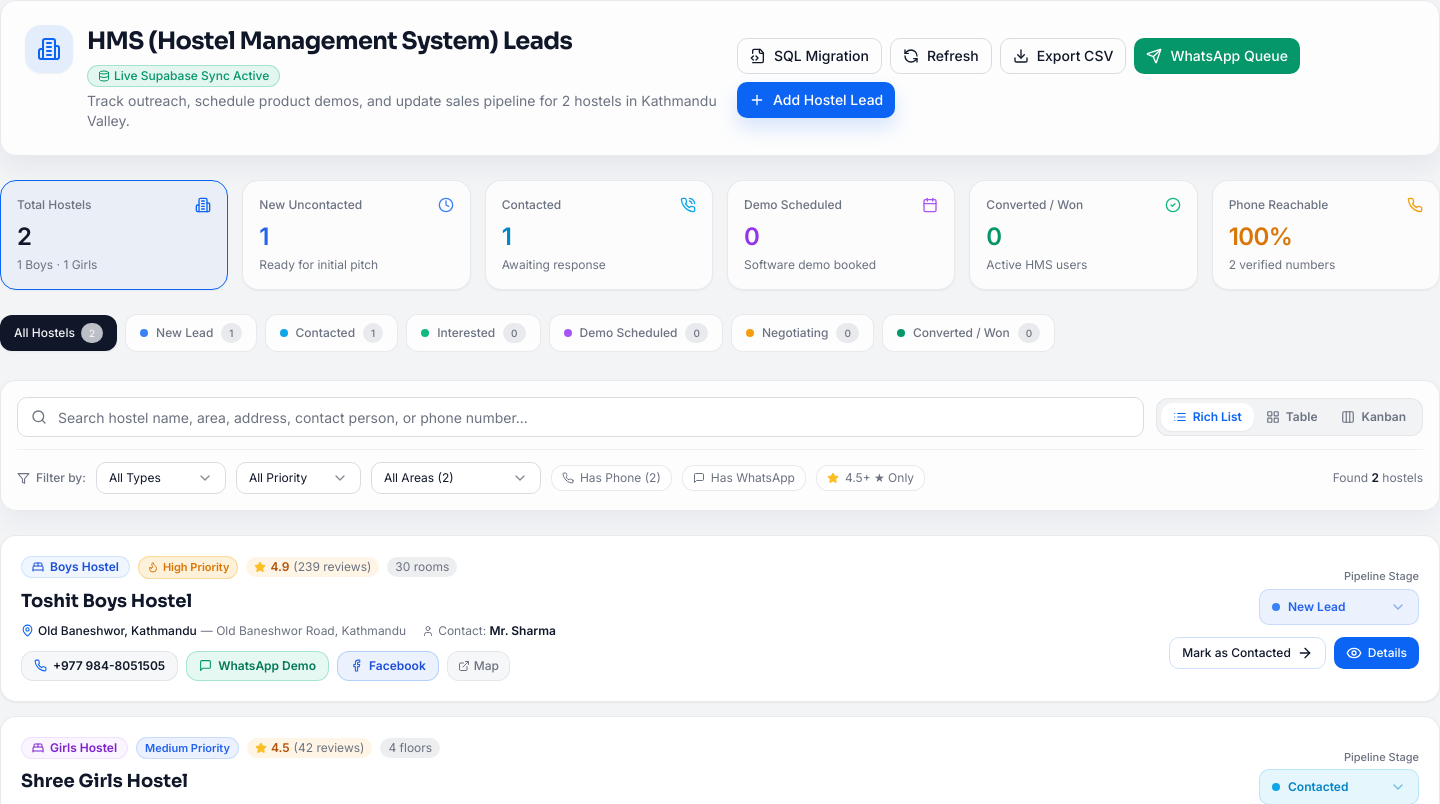
Scenario: AdminHmsLeadsManager › switches to Table view and displays hostel rows
This screenshot has width=1440, height=804.
Click the button "Table" at (1292, 417), box [1254,403,1330,431]
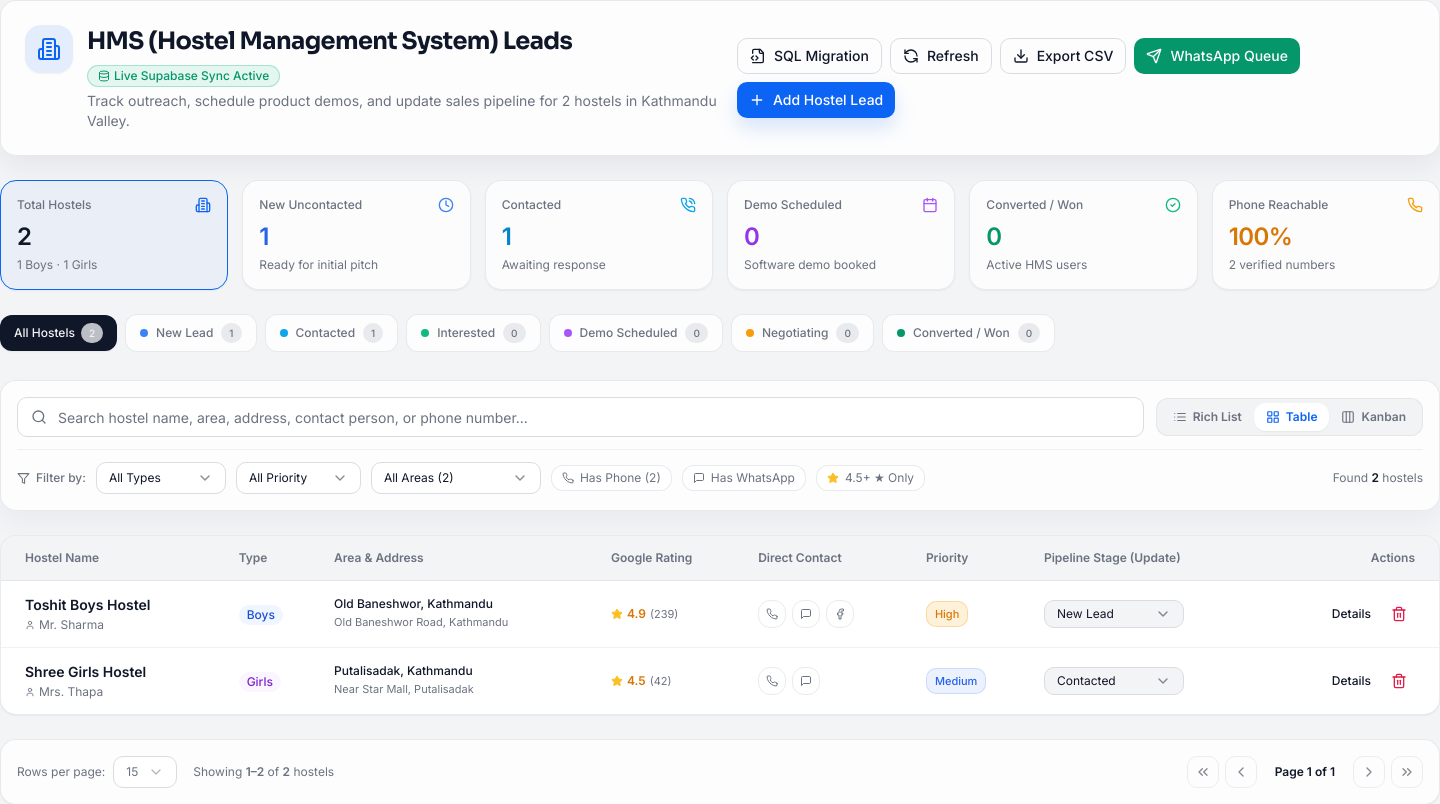
Expected: the text "Toshit Boys Hostel" is shown, [25,596,150,613]
Now the table is shown, box [1,536,1439,714]
